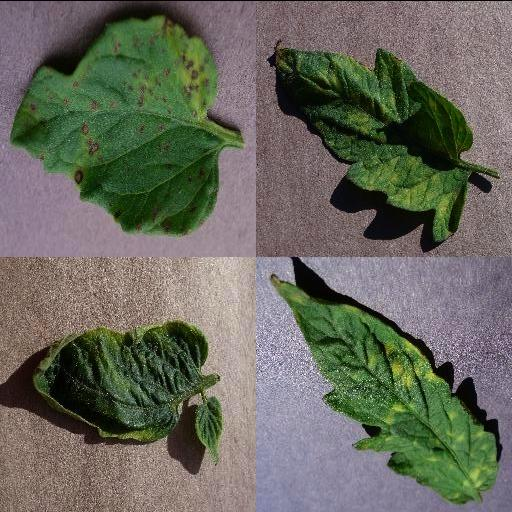Leaf Mold: (270, 272, 498, 504), (274, 48, 472, 242)
Septoria: (10, 12, 220, 237)
Yellow Leaf Curl Virus: (30, 317, 210, 443), (194, 395, 224, 465)
